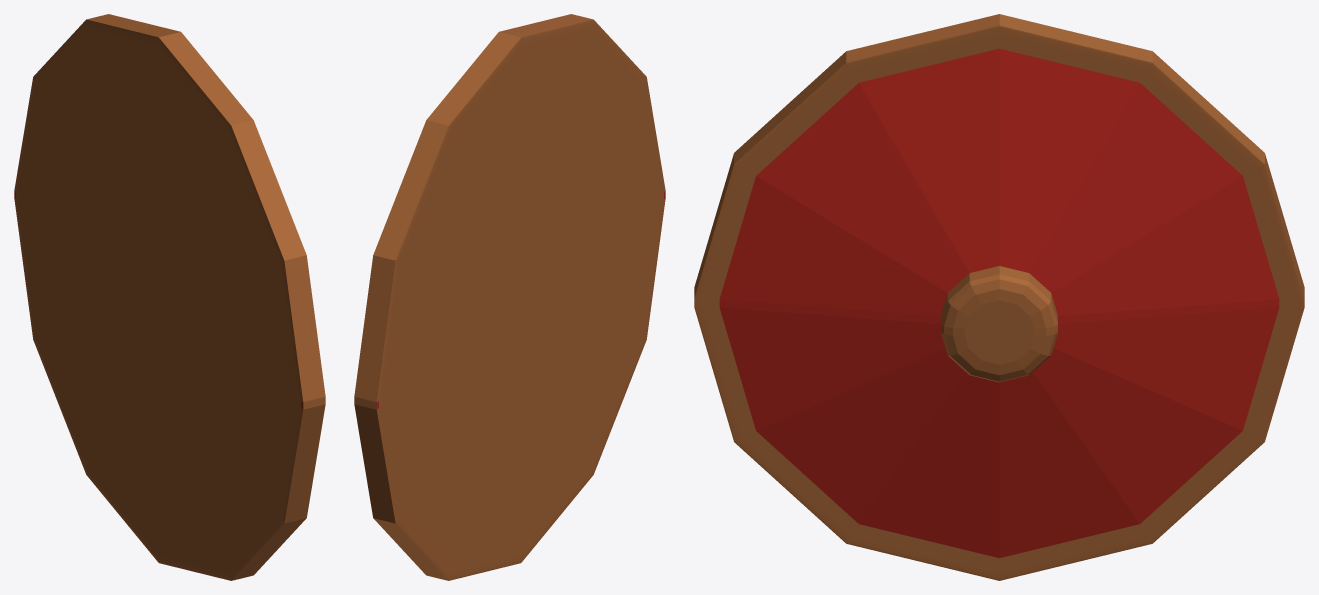
File: Tier02Shield.fbx
3 views of the same model, side by side, from view 1: azimuth 30°, elevation 25°; view 2: azimuth 150°, elevation 25°; view 3: azimuth 270°, elevation 25° (orthographic). The views are drawn at different scales.
Visible parts, largest first — view 1: Tier02Shield.; view 2: Tier02Shield.; view 3: Tier02Shield..
Boxes of the visible parts, x1,y1,x2,y2 form: Tier02Shield.: [14, 14, 325, 580]; Tier02Shield.: [354, 14, 665, 580]; Tier02Shield.: [694, 14, 1304, 580].
Bounding box in the file's own units: 31.74 × 200 × 199.
